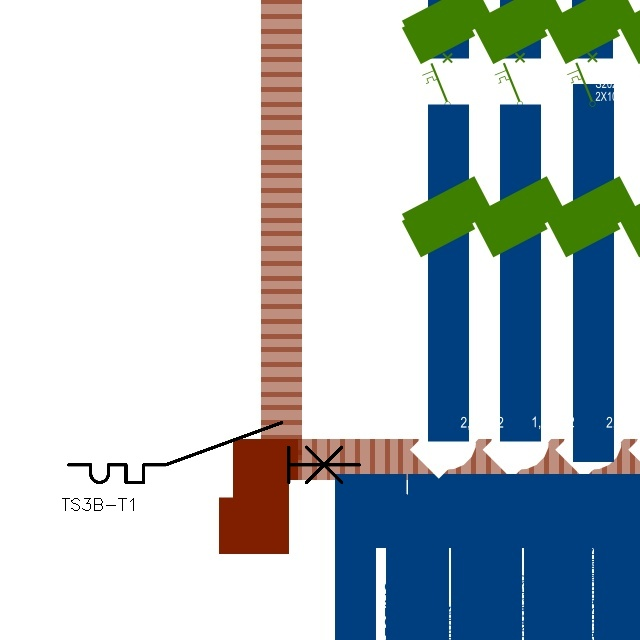interruptor_termomagnetico: (61, 415, 367, 490)
